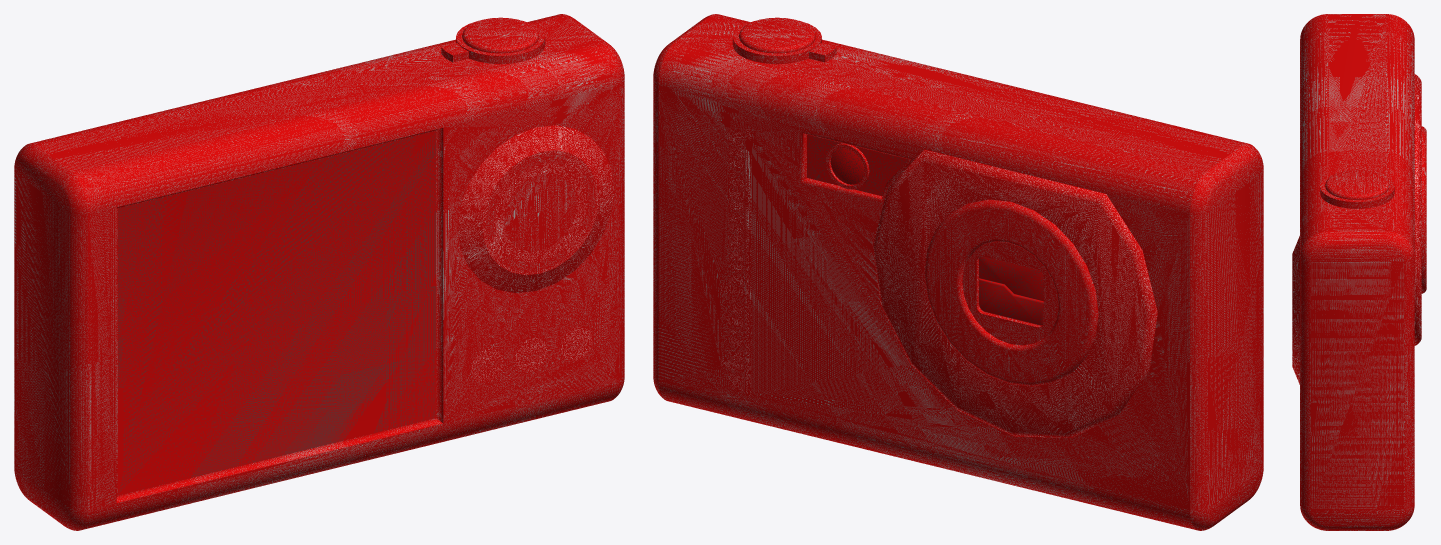
3 views of the same model, side by side, from view 1: azimuth 30°, elevation 25°; view 2: azimuth 150°, elevation 25°; view 3: azimuth 270°, elevation 25° (orthographic). The views are drawn at different scales.
Parts seen in each view (by area): view 1: mesh1_mesh1-geometry; view 2: mesh1_mesh1-geometry; view 3: mesh1_mesh1-geometry.
Part boxes in pixels (x1=…): mesh1_mesh1-geometry: x1=14, y1=14, x2=624, y2=530; mesh1_mesh1-geometry: x1=653, y1=14, x2=1263, y2=530; mesh1_mesh1-geometry: x1=1292, y1=14, x2=1426, y2=530.
Size of the model in its own units: 0.8222 by 0.5305 by 0.2064.
